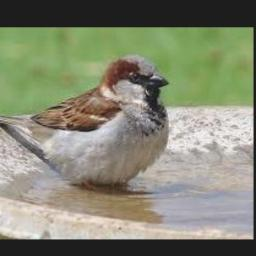Sparrow: (0, 54, 169, 188)
